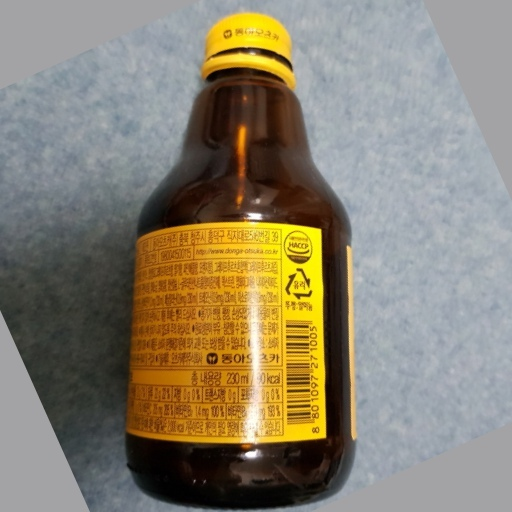Glass_3: (120, 13, 362, 512)
